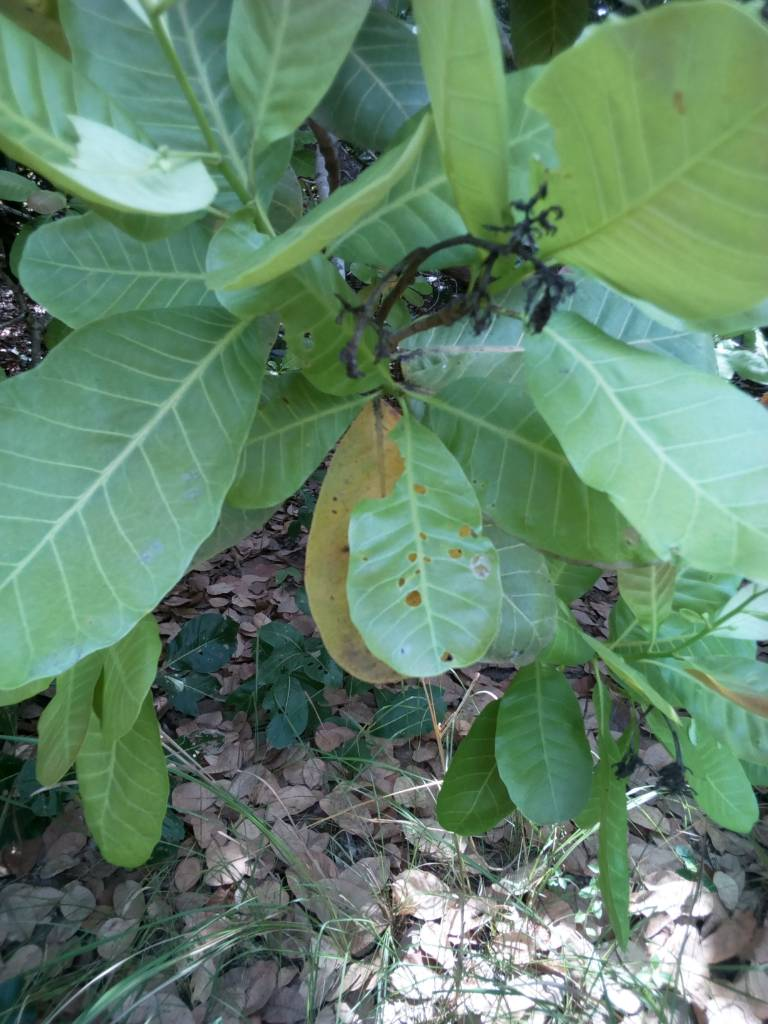Anoplocnemis curvipes: (363, 408, 499, 680)
